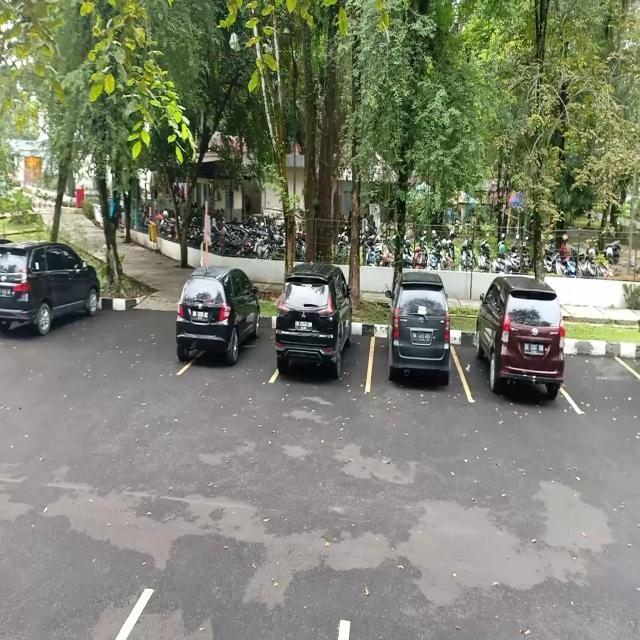empty: (568, 337, 638, 416)
occupied: (173, 273, 273, 382), (272, 284, 370, 390), (460, 311, 569, 405), (367, 294, 462, 399)
